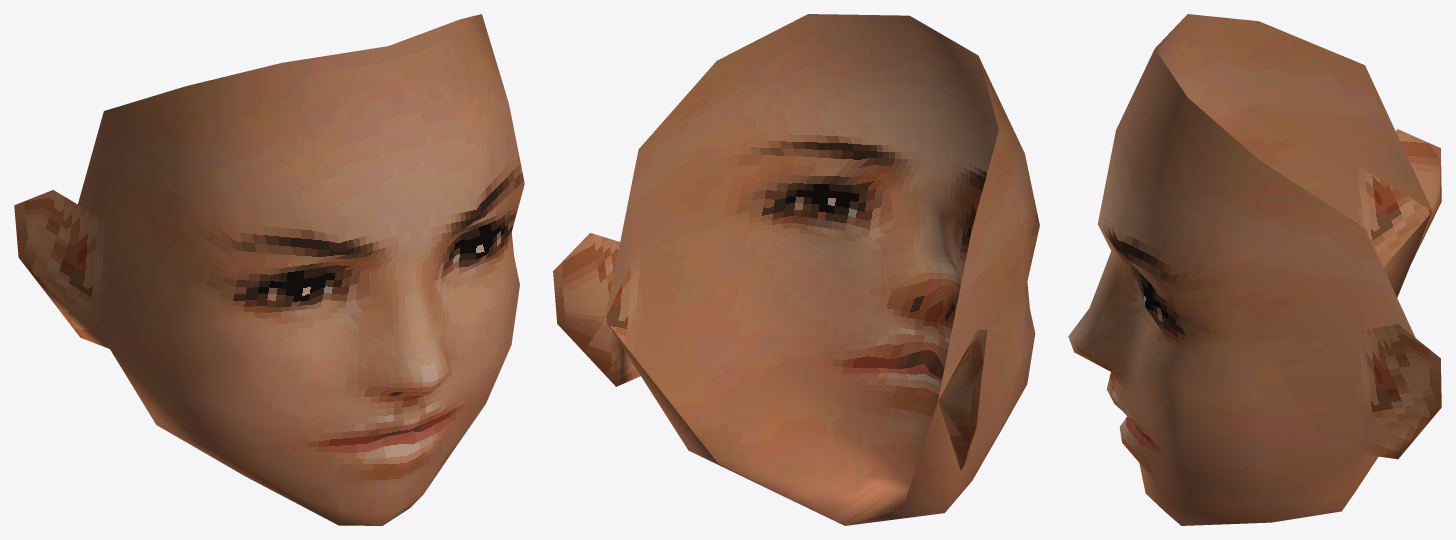
The picture shows the model from 3 angles, left to right: view 1: azimuth 30°, elevation 25°; view 2: azimuth 150°, elevation 25°; view 3: azimuth 270°, elevation 25°; orthographic projection. The views are drawn at different scales.
Size of the model in its own units: 19.4 by 20.02 by 14.57.
1 material, 1 textured.
